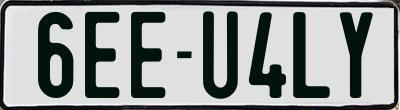4: (249, 12, 292, 101)
6: (38, 10, 78, 98)
E: (82, 10, 119, 100), (130, 9, 165, 99)
L: (292, 10, 332, 101)
U: (202, 9, 243, 98)
Y: (337, 10, 376, 97)
